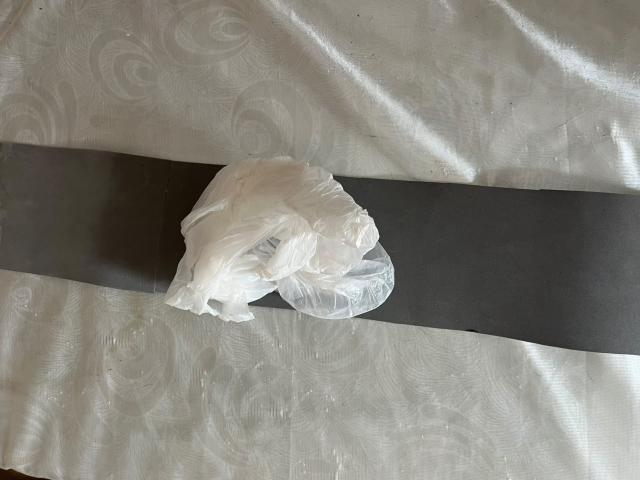LDPE: (142, 141, 411, 344)
